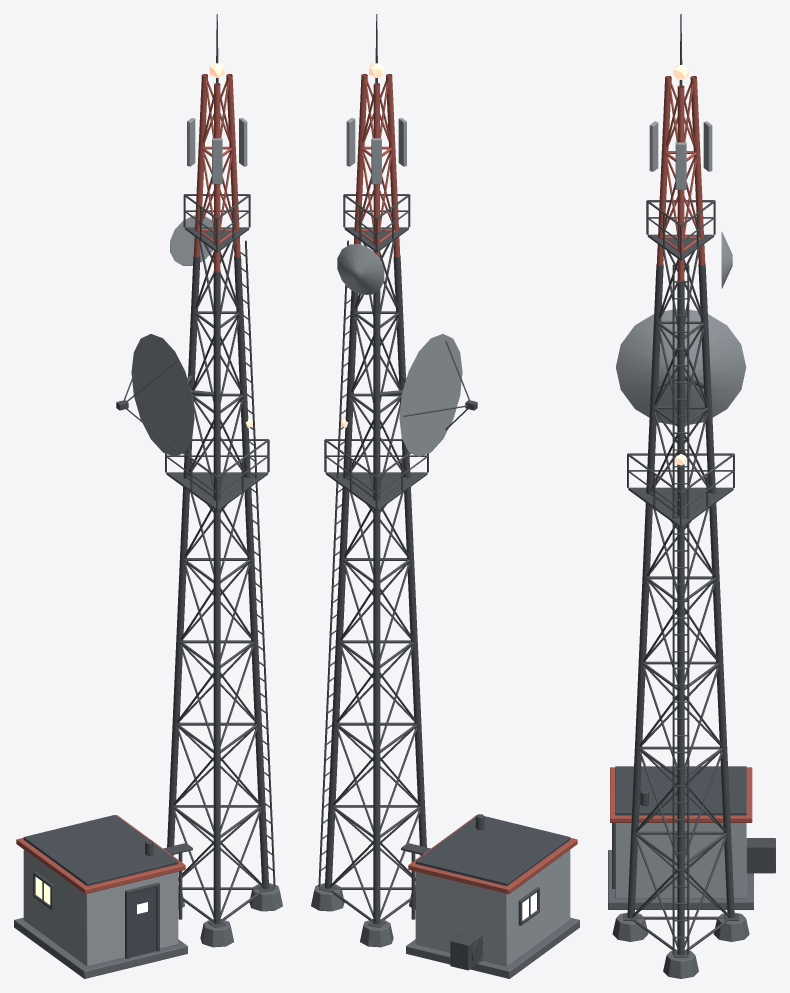
Rendered from mast.glb.
The picture shows the model from 3 angles, left to right: view 1: azimuth 30°, elevation 25°; view 2: azimuth 150°, elevation 25°; view 3: azimuth 270°, elevation 25°; orthographic projection. The views are drawn at different scales.
Visible parts, largest first — view 1: mast; view 2: mast; view 3: mast.
Part boxes in pixels (x1=…): mast: x1=14, y1=14, x2=282, y2=978; mast: x1=311, y1=14, x2=579, y2=978; mast: x1=608, y1=14, x2=775, y2=978.
Bounding box in the file's own units: 7.59 × 28.2 × 4.6.
